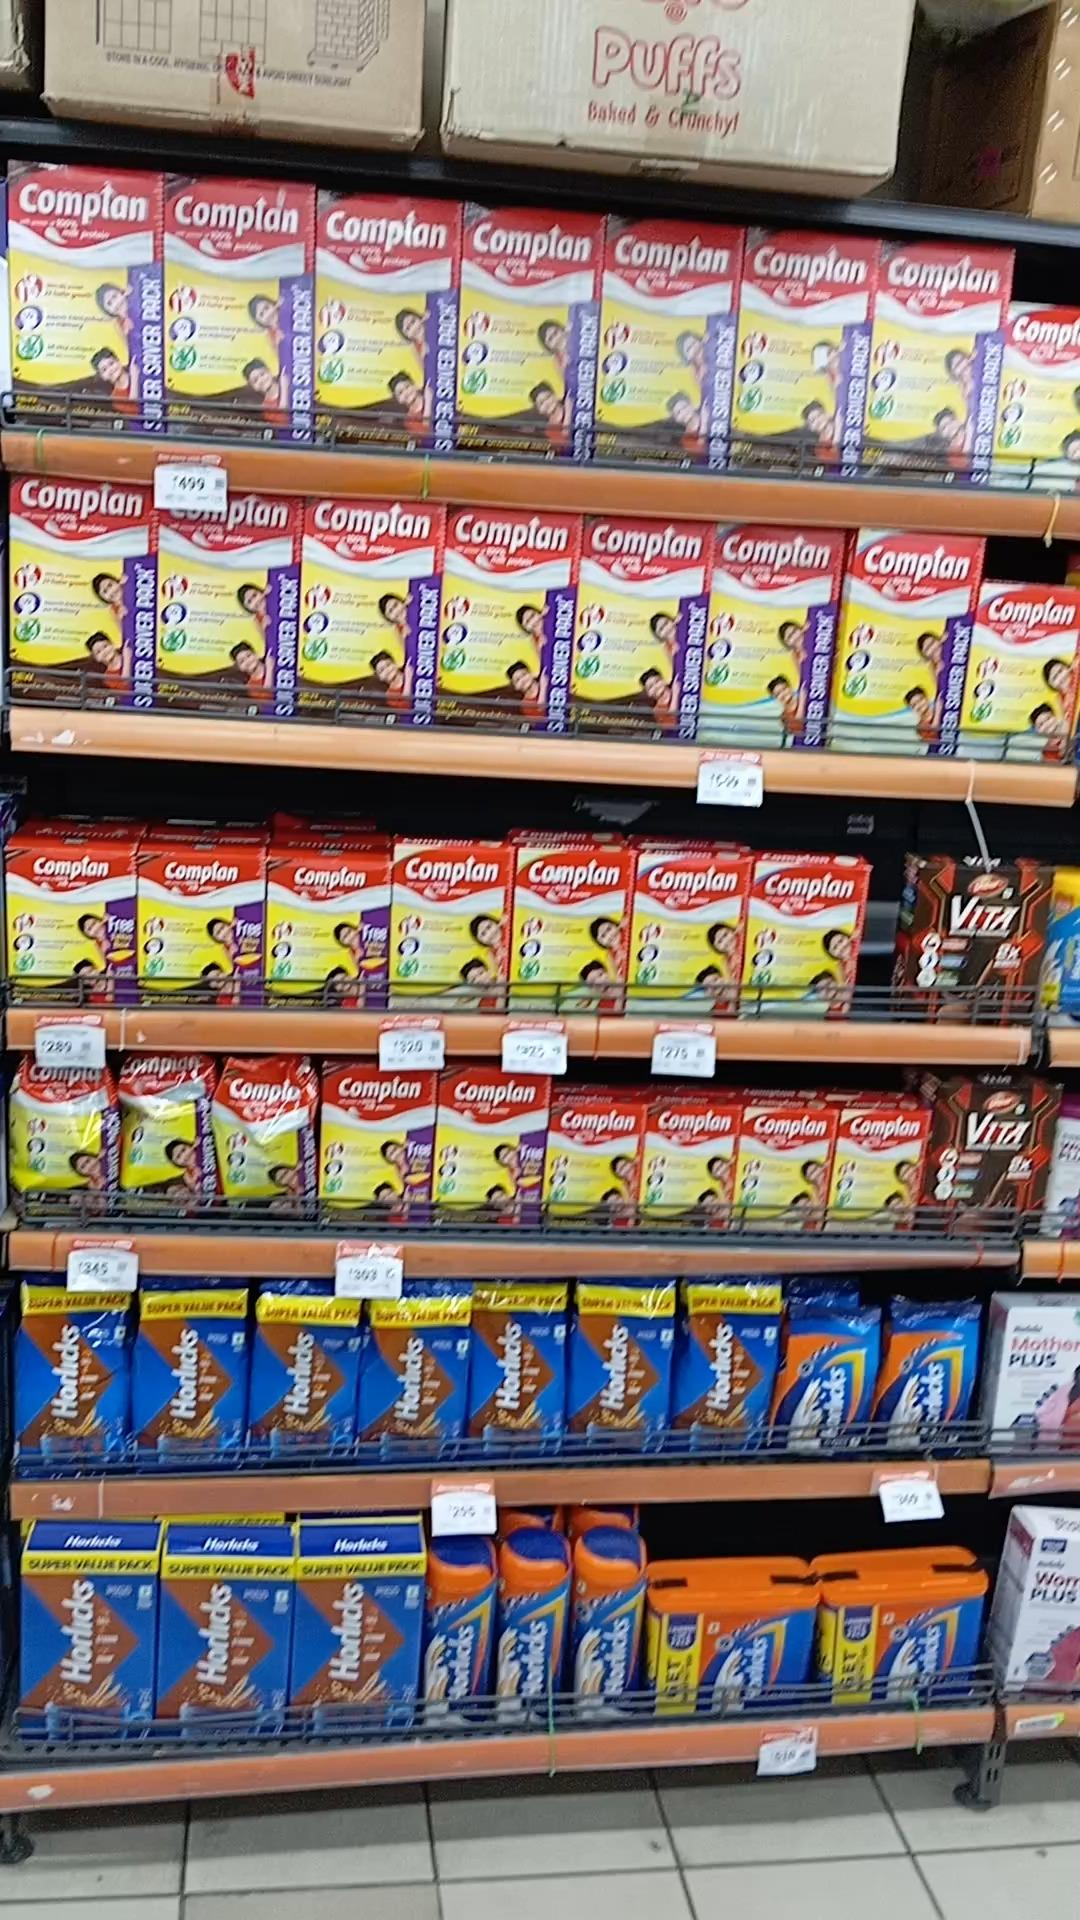COMPLAN_CHOCOLATE_1_KG_PACK: (7, 160, 165, 433), (170, 179, 311, 439), (7, 468, 154, 709), (320, 196, 455, 451), (603, 215, 737, 467), (156, 492, 298, 716), (463, 206, 589, 458), (306, 496, 440, 724), (744, 228, 865, 476), (877, 239, 1000, 481), (446, 508, 571, 736), (582, 517, 700, 744), (319, 1059, 429, 1234), (434, 1067, 543, 1232)
COMPLAN_CHOCOLATE_500_GMS_PACK: (5, 847, 129, 1011), (138, 851, 261, 1007), (265, 856, 386, 1010), (547, 1102, 641, 1236), (642, 1101, 735, 1234)
COMPLAN_CREAMY_CLASSIC_500_G_PACK: (972, 582, 1080, 764), (750, 864, 866, 1013), (637, 853, 740, 1021), (1001, 294, 1080, 489)
COMPLAN_KESAR_BADAM_500_GMS_PACK: (394, 848, 508, 1017), (835, 1104, 922, 1242), (741, 1106, 831, 1237)
COMPLAN_PISTA_BADAM_500_GMS_PACK: (517, 848, 632, 1019)
COMPLAN_RC_POUCH_700_GMS_12: (216, 1055, 311, 1226), (11, 1063, 112, 1220), (117, 1055, 210, 1220)
HORLICK_CHOCOLATE_1_KG_PACK: (17, 1553, 152, 1758), (162, 1557, 289, 1753), (290, 1557, 417, 1743)
HORLICK_CHOCOLATE_750_G_POUCH: (18, 1284, 129, 1480), (137, 1279, 245, 1473), (249, 1283, 355, 1472), (361, 1286, 462, 1469), (566, 1280, 666, 1462), (467, 1284, 564, 1466), (676, 1280, 775, 1460)
HORLICK_CLASSIC_MALT_750_G_POUCH: (886, 1305, 982, 1461), (785, 1316, 874, 1458)
HORLICK_MALT_1_KG_CONTAINER: (831, 1586, 990, 1712), (657, 1601, 810, 1717)
